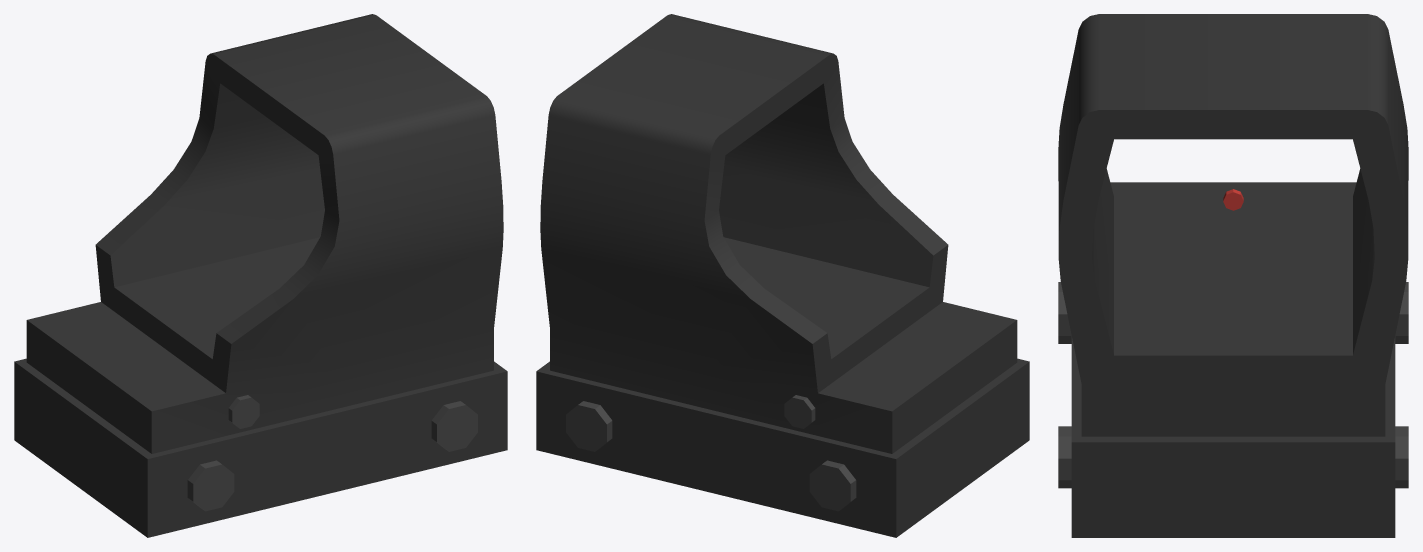
Rendered from Optic_01.fbx.
3 views of the same model, side by side, from view 1: azimuth 30°, elevation 25°; view 2: azimuth 150°, elevation 25°; view 3: azimuth 270°, elevation 25° (orthographic). The views are drawn at different scales.
Visible parts, largest first — view 1: Optic_01; view 2: Optic_01; view 3: Optic_01.
Boxes of the visible parts, left/top/right/bottom form: Optic_01: left=14, top=14, right=507, bottom=537; Optic_01: left=536, top=14, right=1029, bottom=537; Optic_01: left=1058, top=14, right=1408, bottom=537.
Size of the model in its own units: 4.85 by 4.48 by 3.37.
